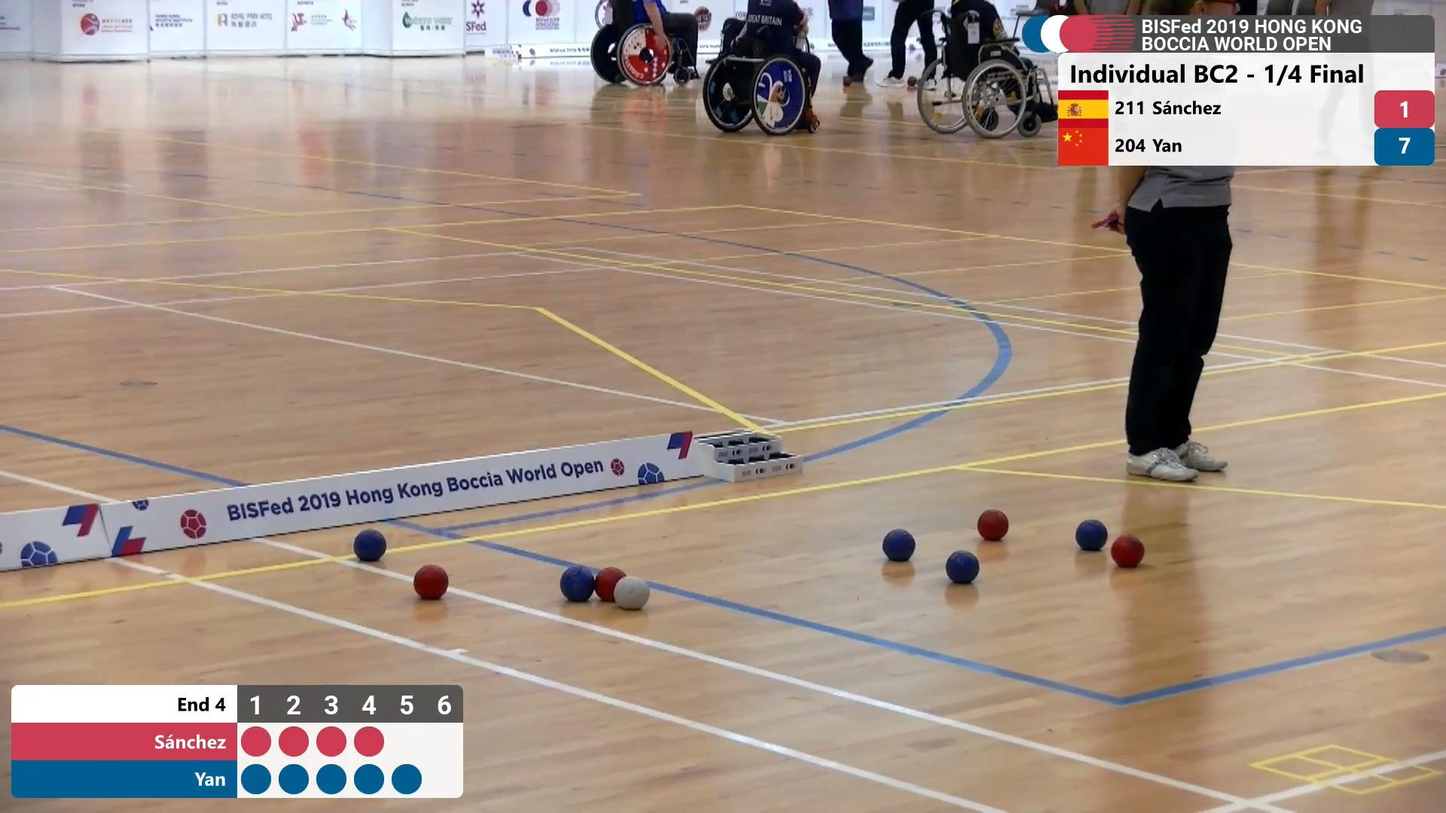blue_ball: (561, 564, 594, 600), (353, 528, 387, 562), (946, 550, 980, 584), (883, 528, 915, 563), (1076, 518, 1108, 550)
red_ball: (413, 566, 449, 599), (1112, 534, 1144, 567), (977, 511, 1008, 541), (597, 566, 621, 598)
white_ball: (616, 578, 649, 609)
